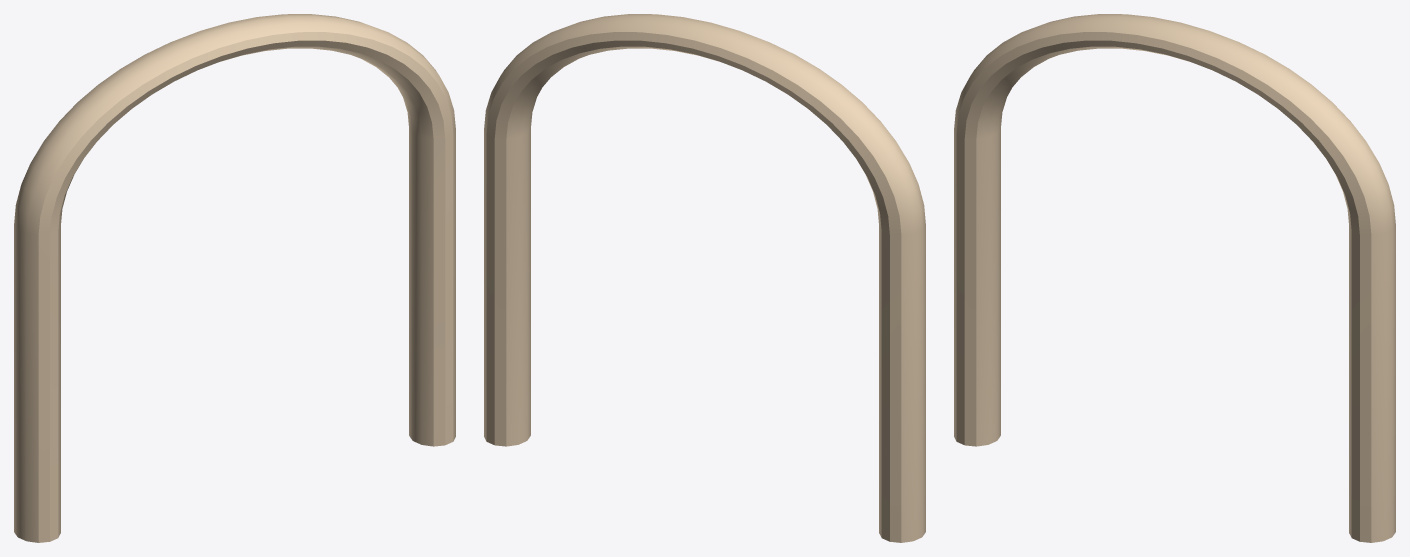
File: Door.glb
3 renders of one model, left to right at view 1: azimuth 30°, elevation 25°; view 2: azimuth 150°, elevation 25°; view 3: azimuth 330°, elevation 25°, orthographic.
Visible parts, largest first — view 1: Torus; view 2: Torus; view 3: Torus.
Part boxes in pixels (<box>): Torus: <box>14,14,455,542</box>; Torus: <box>484,14,925,542</box>; Torus: <box>954,14,1395,542</box>.
Size of the model in its own units: 3.96 by 4 by 0.4.
